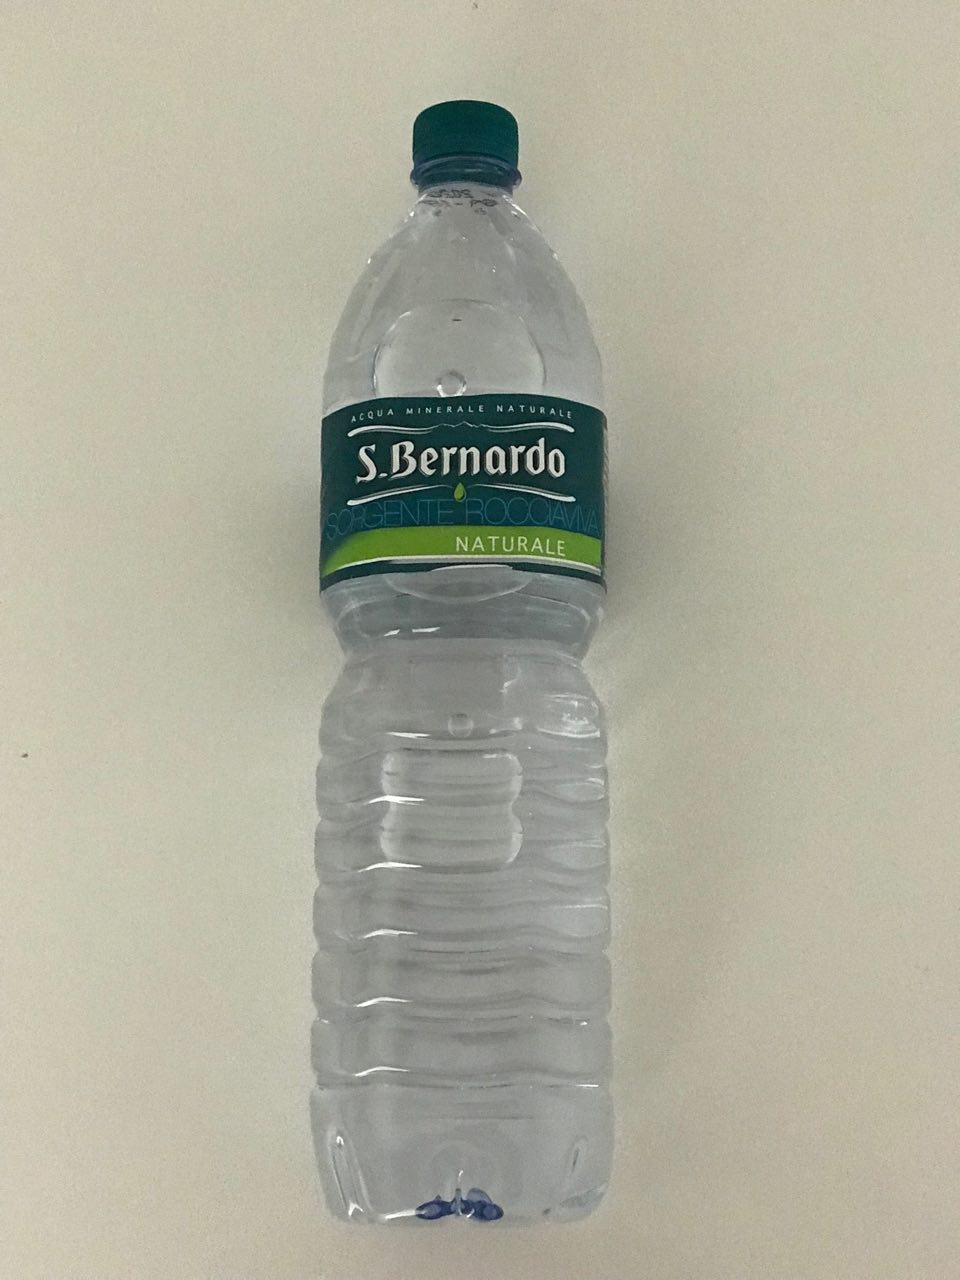san_bernardo: (310, 98, 615, 1231)
